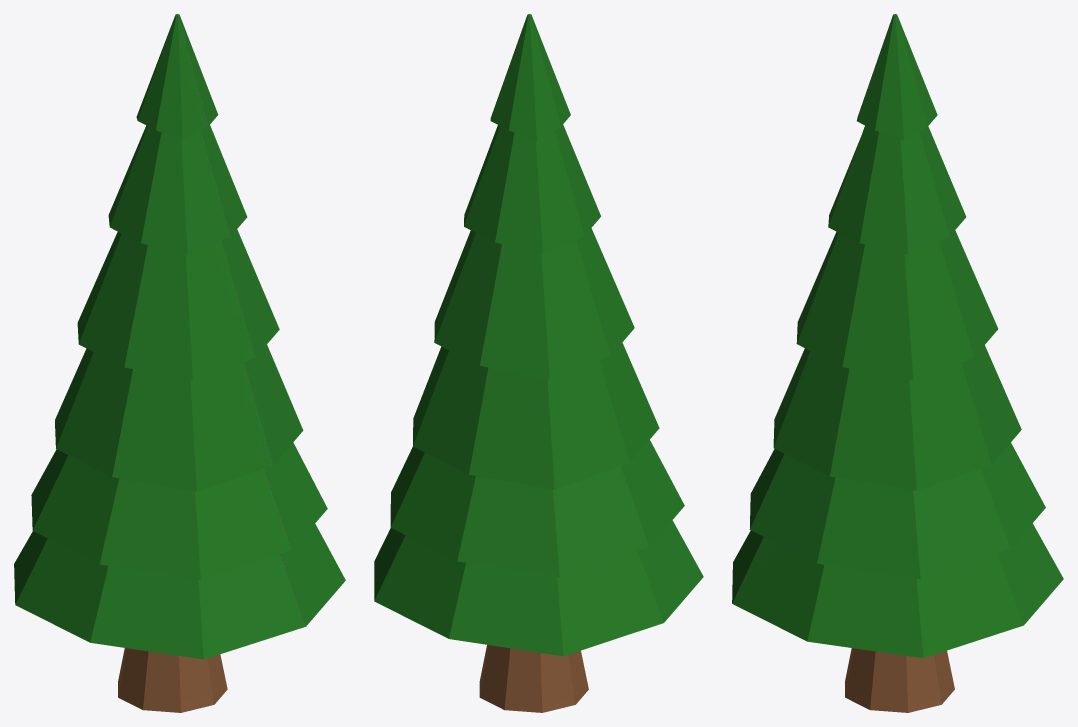
The model's file is tree.glb.
3 renders of one model, left to right at view 1: azimuth 30°, elevation 25°; view 2: azimuth 150°, elevation 25°; view 3: azimuth 270°, elevation 25°, orthographic.
Visible parts, largest first — view 1: Cylinder; view 2: Cylinder; view 3: Cylinder.
Boxes of the visible parts, left/top/right/bottom form: Cylinder: left=14, top=14, right=345, bottom=712; Cylinder: left=374, top=14, right=703, bottom=712; Cylinder: left=732, top=14, right=1063, bottom=712.
Bounding box in the file's own units: 2.31 × 5.12 × 2.28.
Materials: 1 (1 with a texture image).
